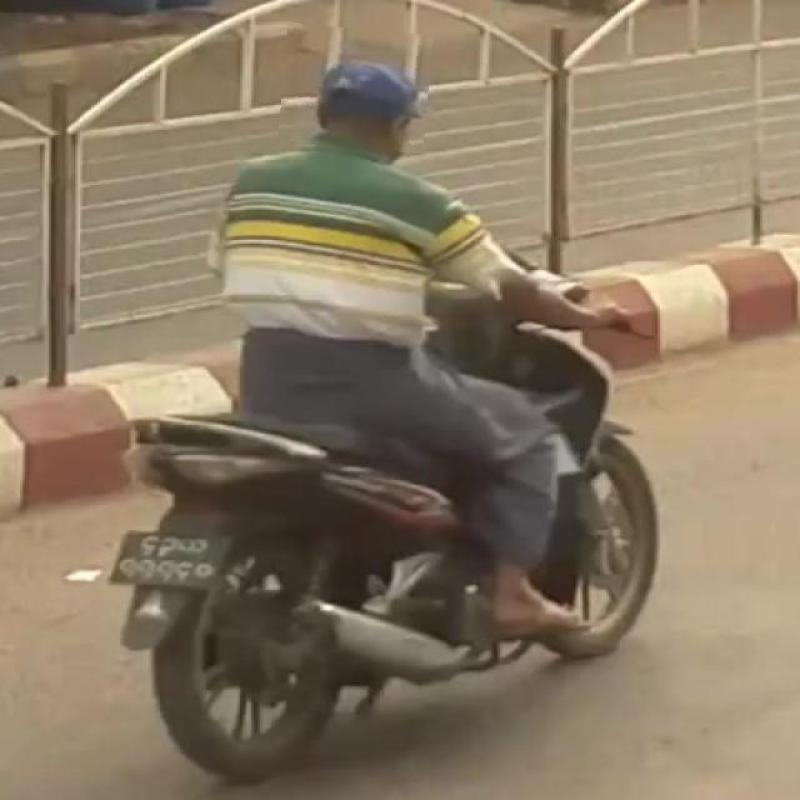nohelmet: (280, 25, 432, 150)
